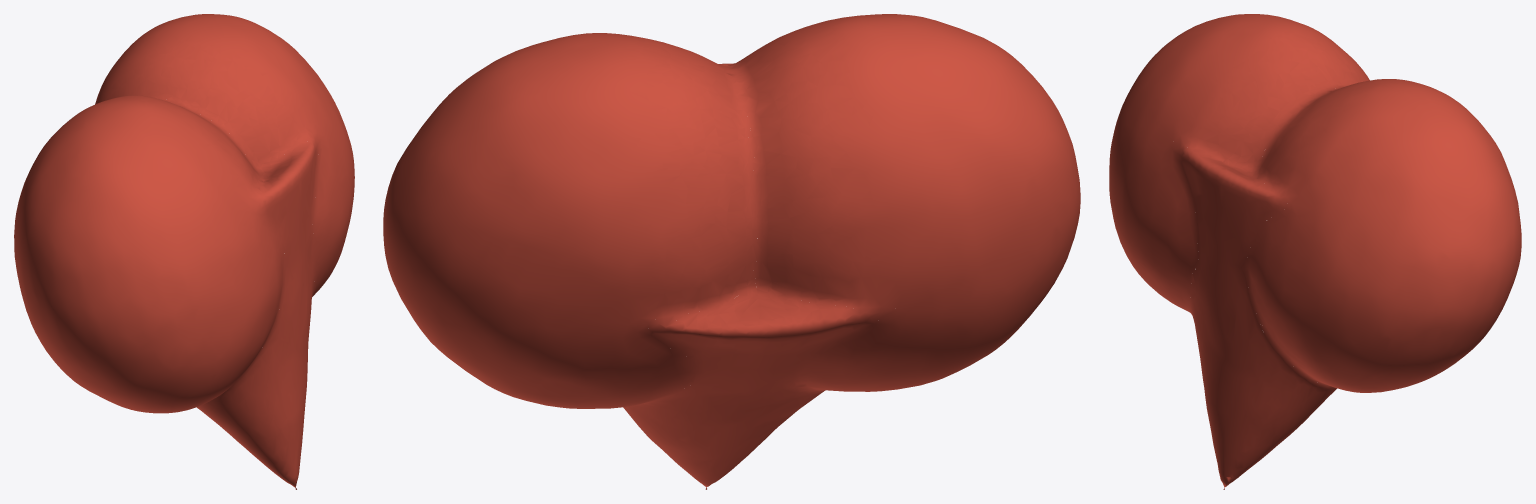
File: mitt-personnummer-ar.glb
3 renders of one model, left to right at view 1: azimuth 30°, elevation 25°; view 2: azimuth 150°, elevation 25°; view 3: azimuth 270°, elevation 25°, orthographic. The views are drawn at different scales.
Parts seen in each view (by area): view 1: coracao__r0; view 2: coracao__r0; view 3: coracao__r0.
Boxes of the visible parts, x1=… form: coracao__r0: x1=14, y1=14, x2=354, y2=489; coracao__r0: x1=383, y1=14, x2=1080, y2=489; coracao__r0: x1=1109, y1=14, x2=1521, y2=489.
Size of the model in its own units: 0.4848 by 0.4684 by 0.4437.
